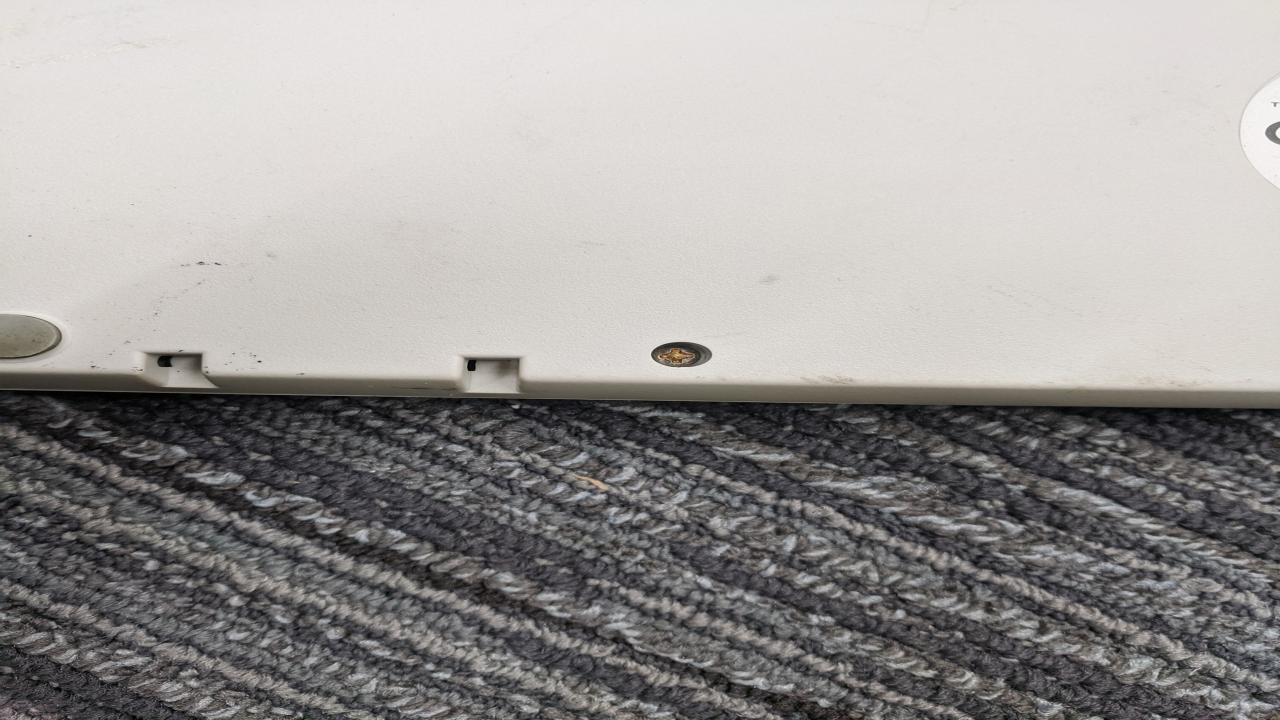CRS: (646, 341, 717, 369)
